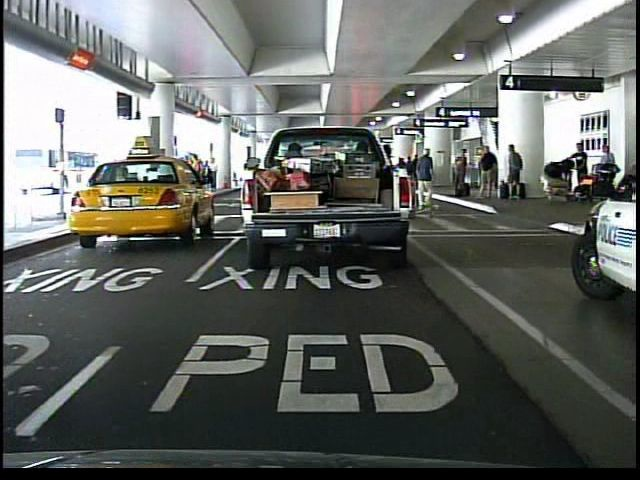person: (372, 137, 409, 231), (413, 147, 437, 212), (570, 140, 595, 200), (593, 141, 618, 200)
